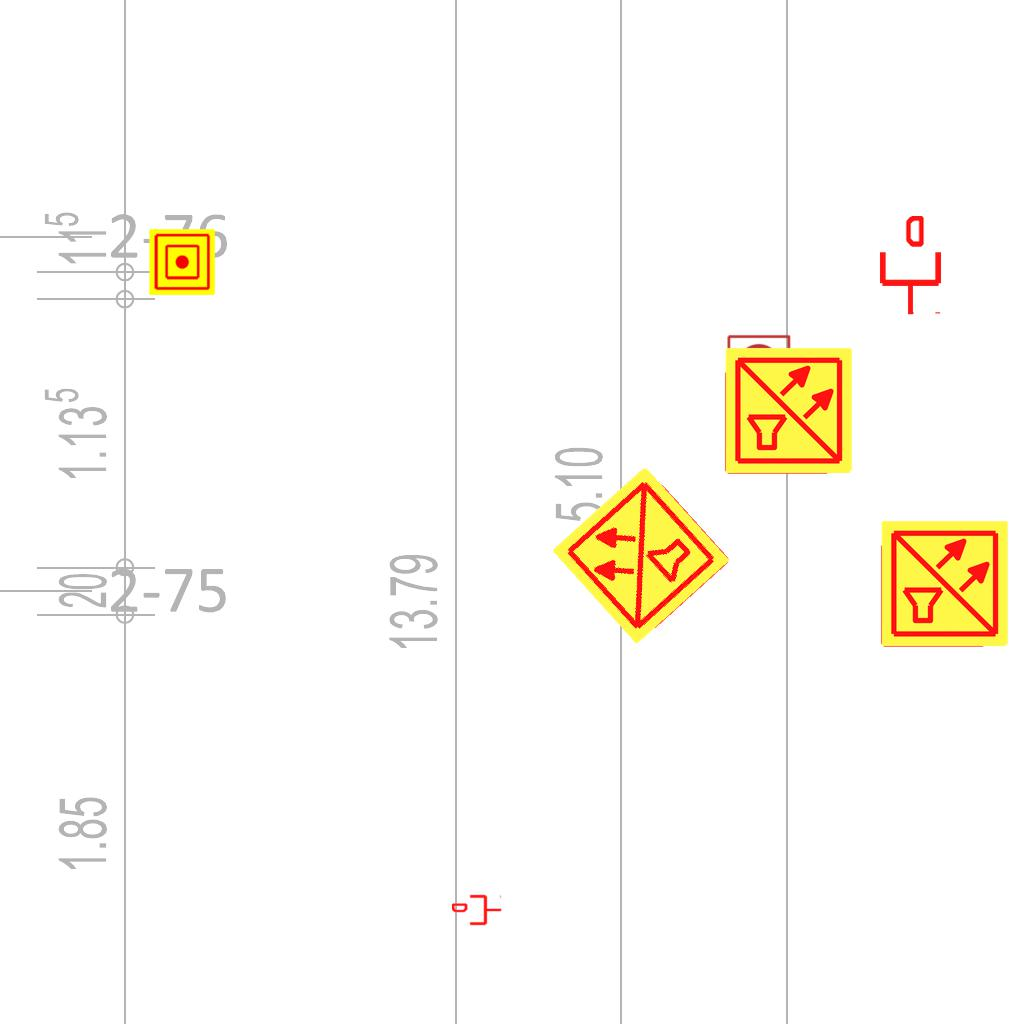Datenanschluss_einfach: (876, 216, 945, 316), (452, 893, 502, 927)
NAM-Nichtautomatischer_Melder: (149, 229, 215, 295)
OKW_Multisensormelder_(Kombination_optischer_Rauch-Kahlenmonoxid_Waerme-Melder): (547, 461, 735, 649), (879, 518, 1011, 650), (723, 345, 855, 477)
Zugtaster: (722, 331, 794, 453)
